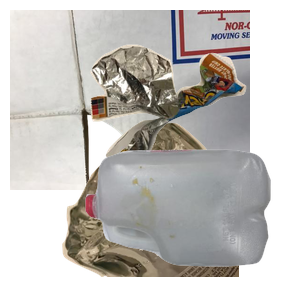cardboard: (10, 10, 250, 190)
glass: (60, 120, 300, 300)
plastic: (83, 147, 300, 300)
trash: (88, 42, 300, 219)
